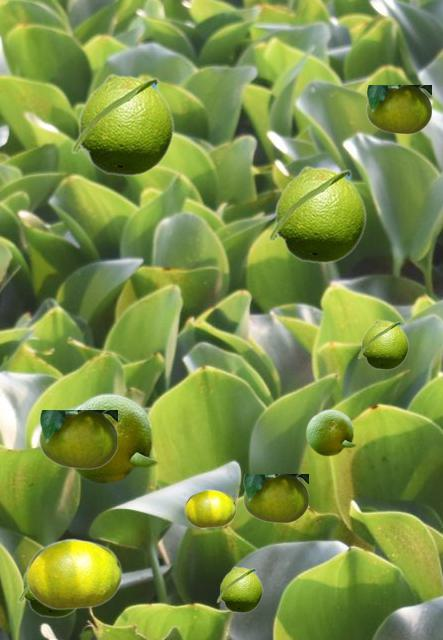dalandan: (70, 73, 174, 176), (267, 165, 366, 263), (71, 391, 159, 483), (26, 538, 121, 609), (39, 410, 116, 468), (366, 85, 430, 133), (243, 474, 307, 522), (17, 568, 75, 617), (357, 319, 408, 369), (305, 408, 356, 455), (216, 566, 262, 612), (184, 489, 235, 527)
